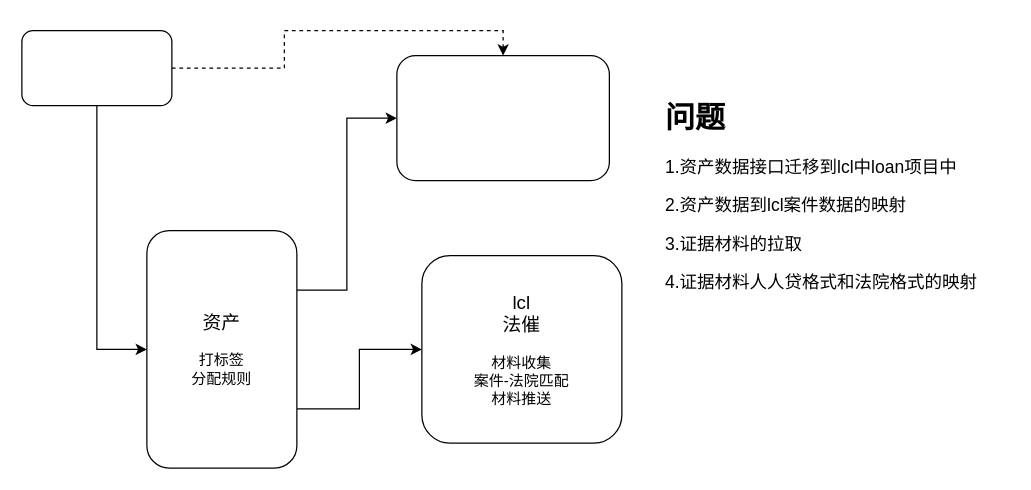
Image size: 1031x490. Some labels were removed from this diagram. Here are the shapes that lost their labels. From the top down, the centre of each, then its label:
At [96,67]: "资产数据".
At [502,117]: "ceres 催收 委外 案件分配 减免".
